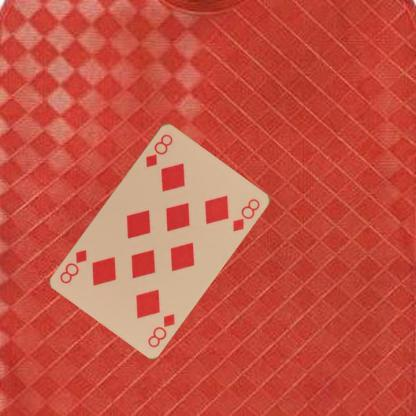8d: (142, 131, 174, 168), (145, 310, 176, 348)
